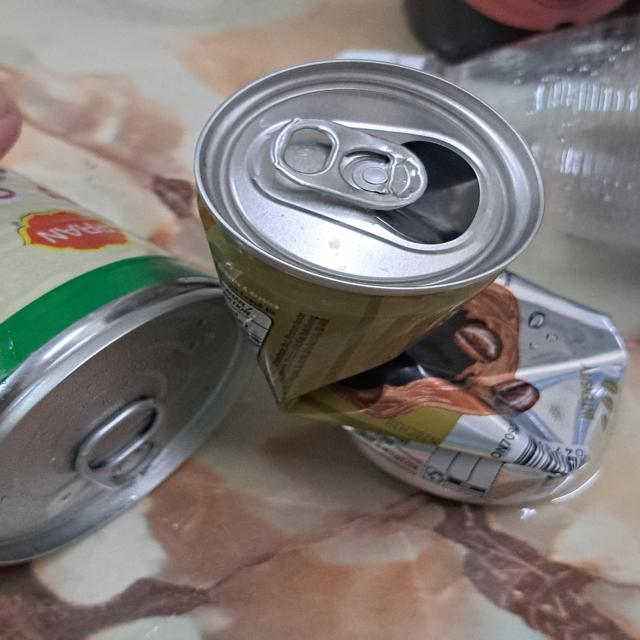can: (198, 62, 629, 506), (0, 160, 254, 570)
pop tab: (274, 116, 426, 210), (72, 395, 162, 491)
